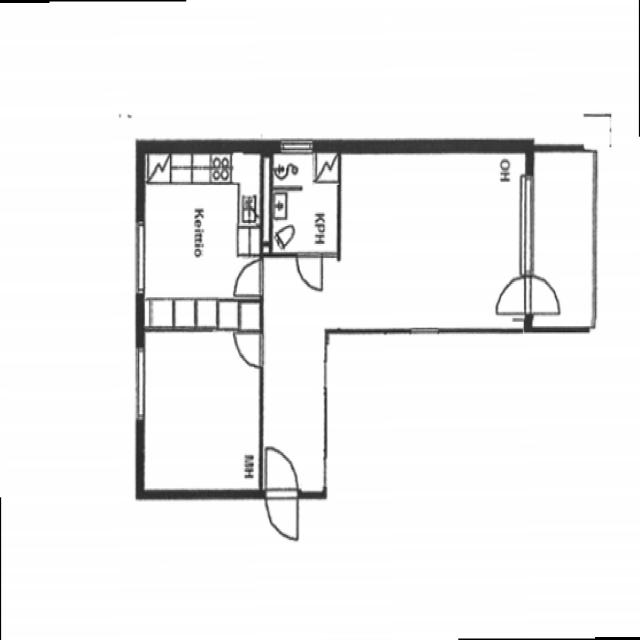door: (262, 446, 304, 544), (487, 273, 567, 317), (230, 255, 267, 298), (293, 252, 326, 292), (232, 328, 264, 369)
window: (516, 169, 538, 277), (132, 345, 148, 426), (132, 218, 148, 298), (277, 137, 317, 155), (321, 346, 331, 394)
zone: (334, 147, 530, 331), (137, 146, 265, 328), (139, 323, 263, 496), (265, 146, 339, 254)
